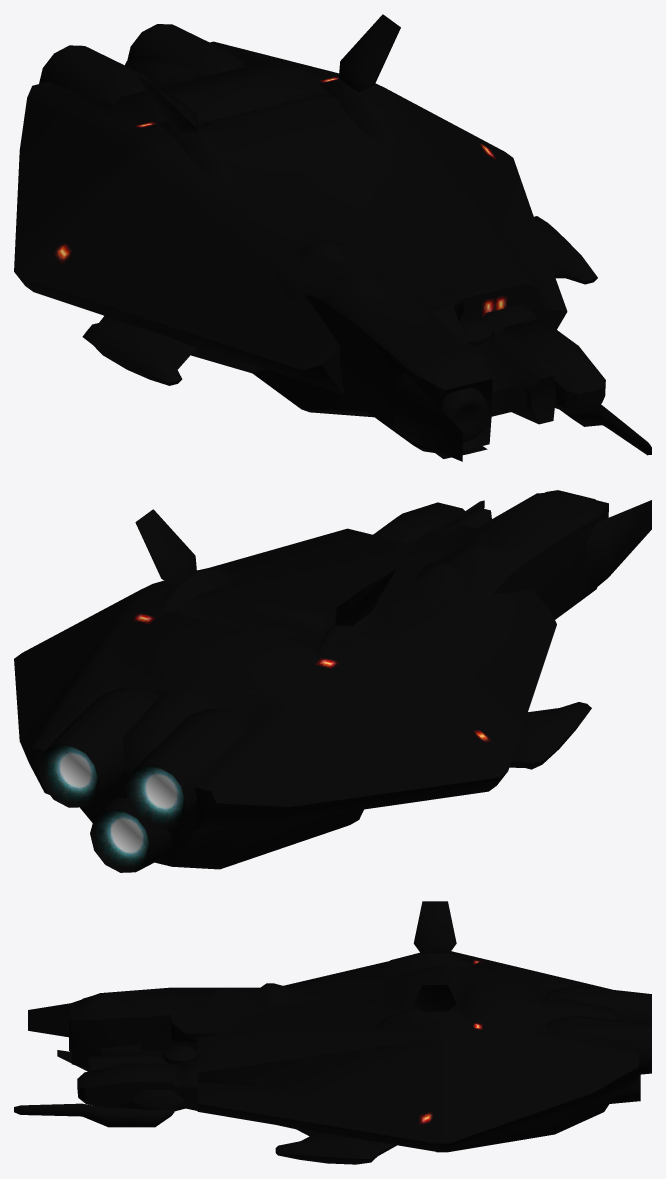
The model's file is hgn_plasma_bomber_01_t4.glb.
3 views of the same model, one above another, from view 1: azimuth 30°, elevation 25°; view 2: azimuth 150°, elevation 25°; view 3: azimuth 270°, elevation 25° (orthographic). The views are drawn at different scales.
Parts seen in each view (by area): view 1: plasma_bomber_01_t4_LOD0; view 2: plasma_bomber_01_t4_LOD0; view 3: plasma_bomber_01_t4_LOD0.
Boxes of the visible parts, box(x1,y1,x2,y2) form: plasma_bomber_01_t4_LOD0: box(14, 14, 651, 461); plasma_bomber_01_t4_LOD0: box(14, 490, 651, 872); plasma_bomber_01_t4_LOD0: box(14, 901, 651, 1164).
Size of what is drawn, in the model's own units: 0.3611 by 0.1811 by 0.5825.
1 material, 1 textured.
